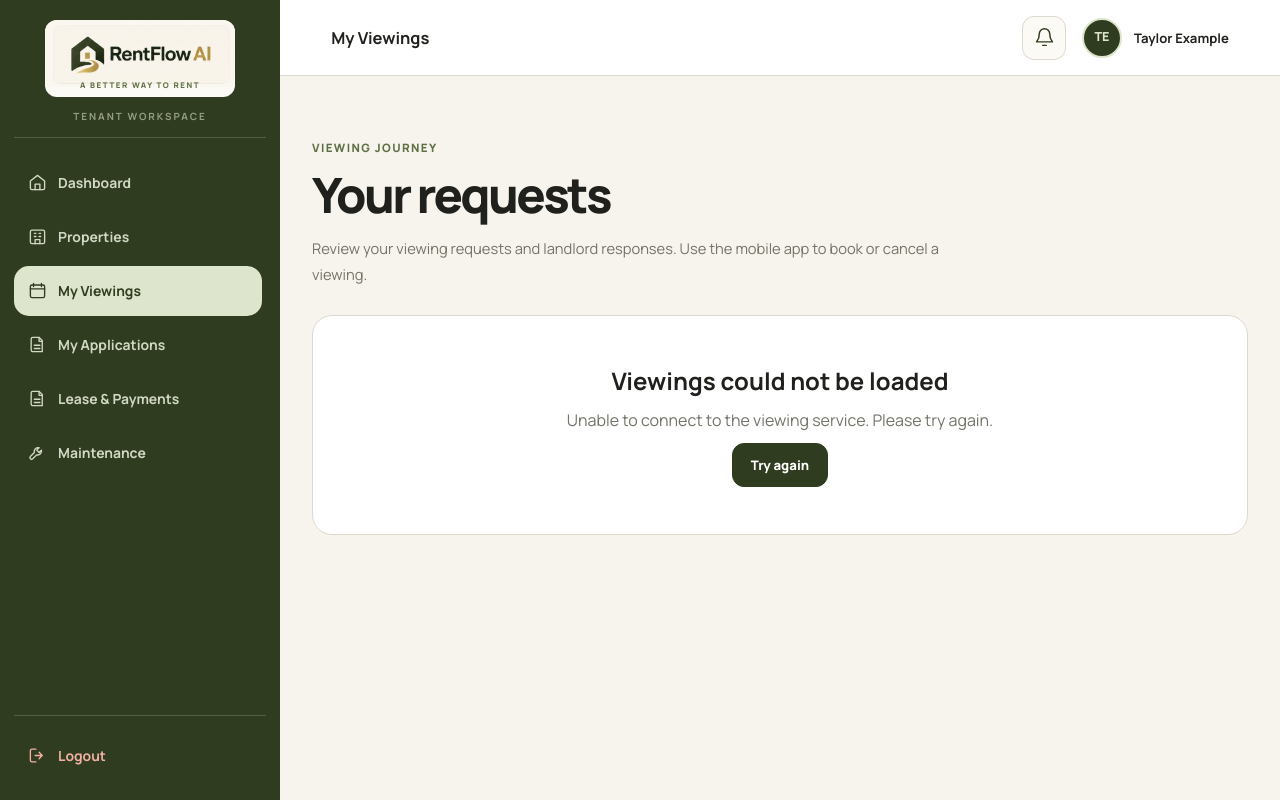
Test: Tenant My Viewings › handles a network failure and retries successfully
The width and height of the screenshot is (1280, 800).
Check: the message shows "Unable to connect to the viewing service", box left=567, top=409, right=993, bottom=431
Click the button "Try again" at (780, 465), box left=732, top=443, right=828, bottom=487
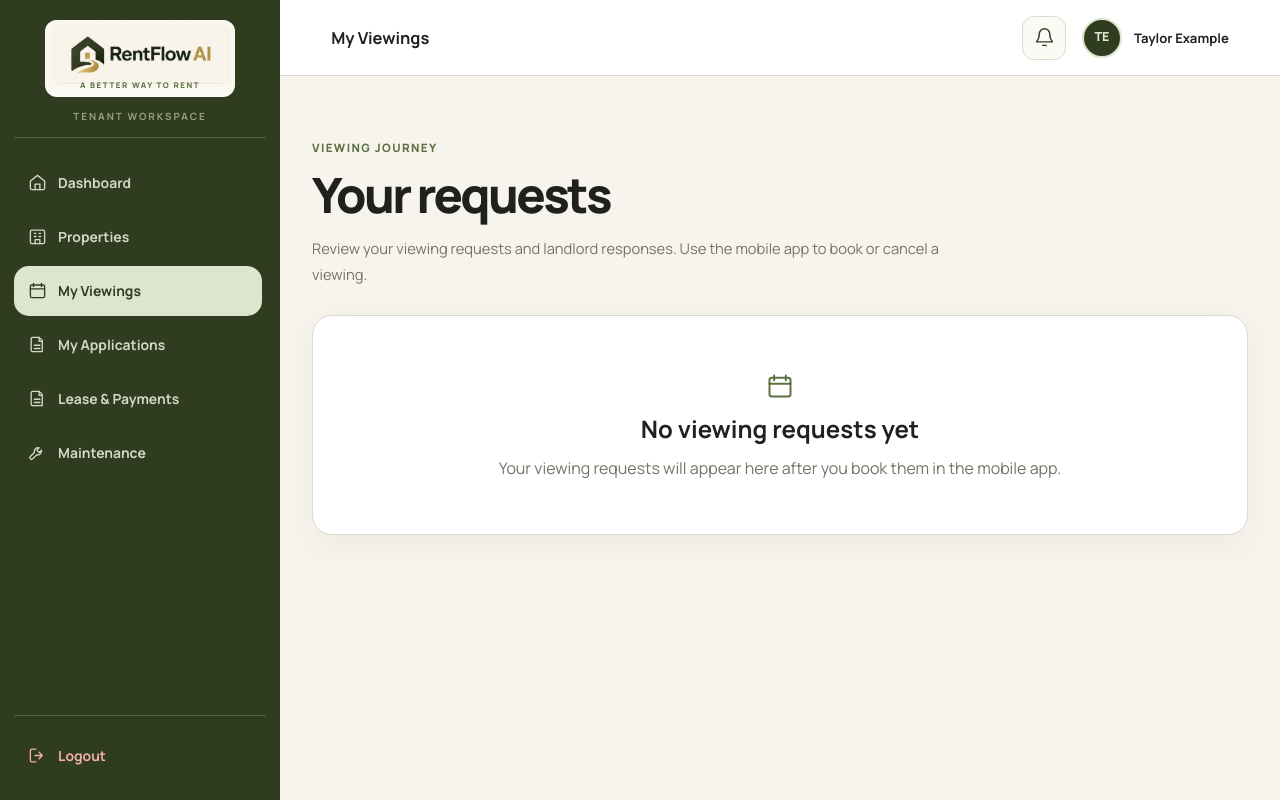
Check: the heading "No viewing requests yet" is shown, box left=641, top=412, right=919, bottom=445
